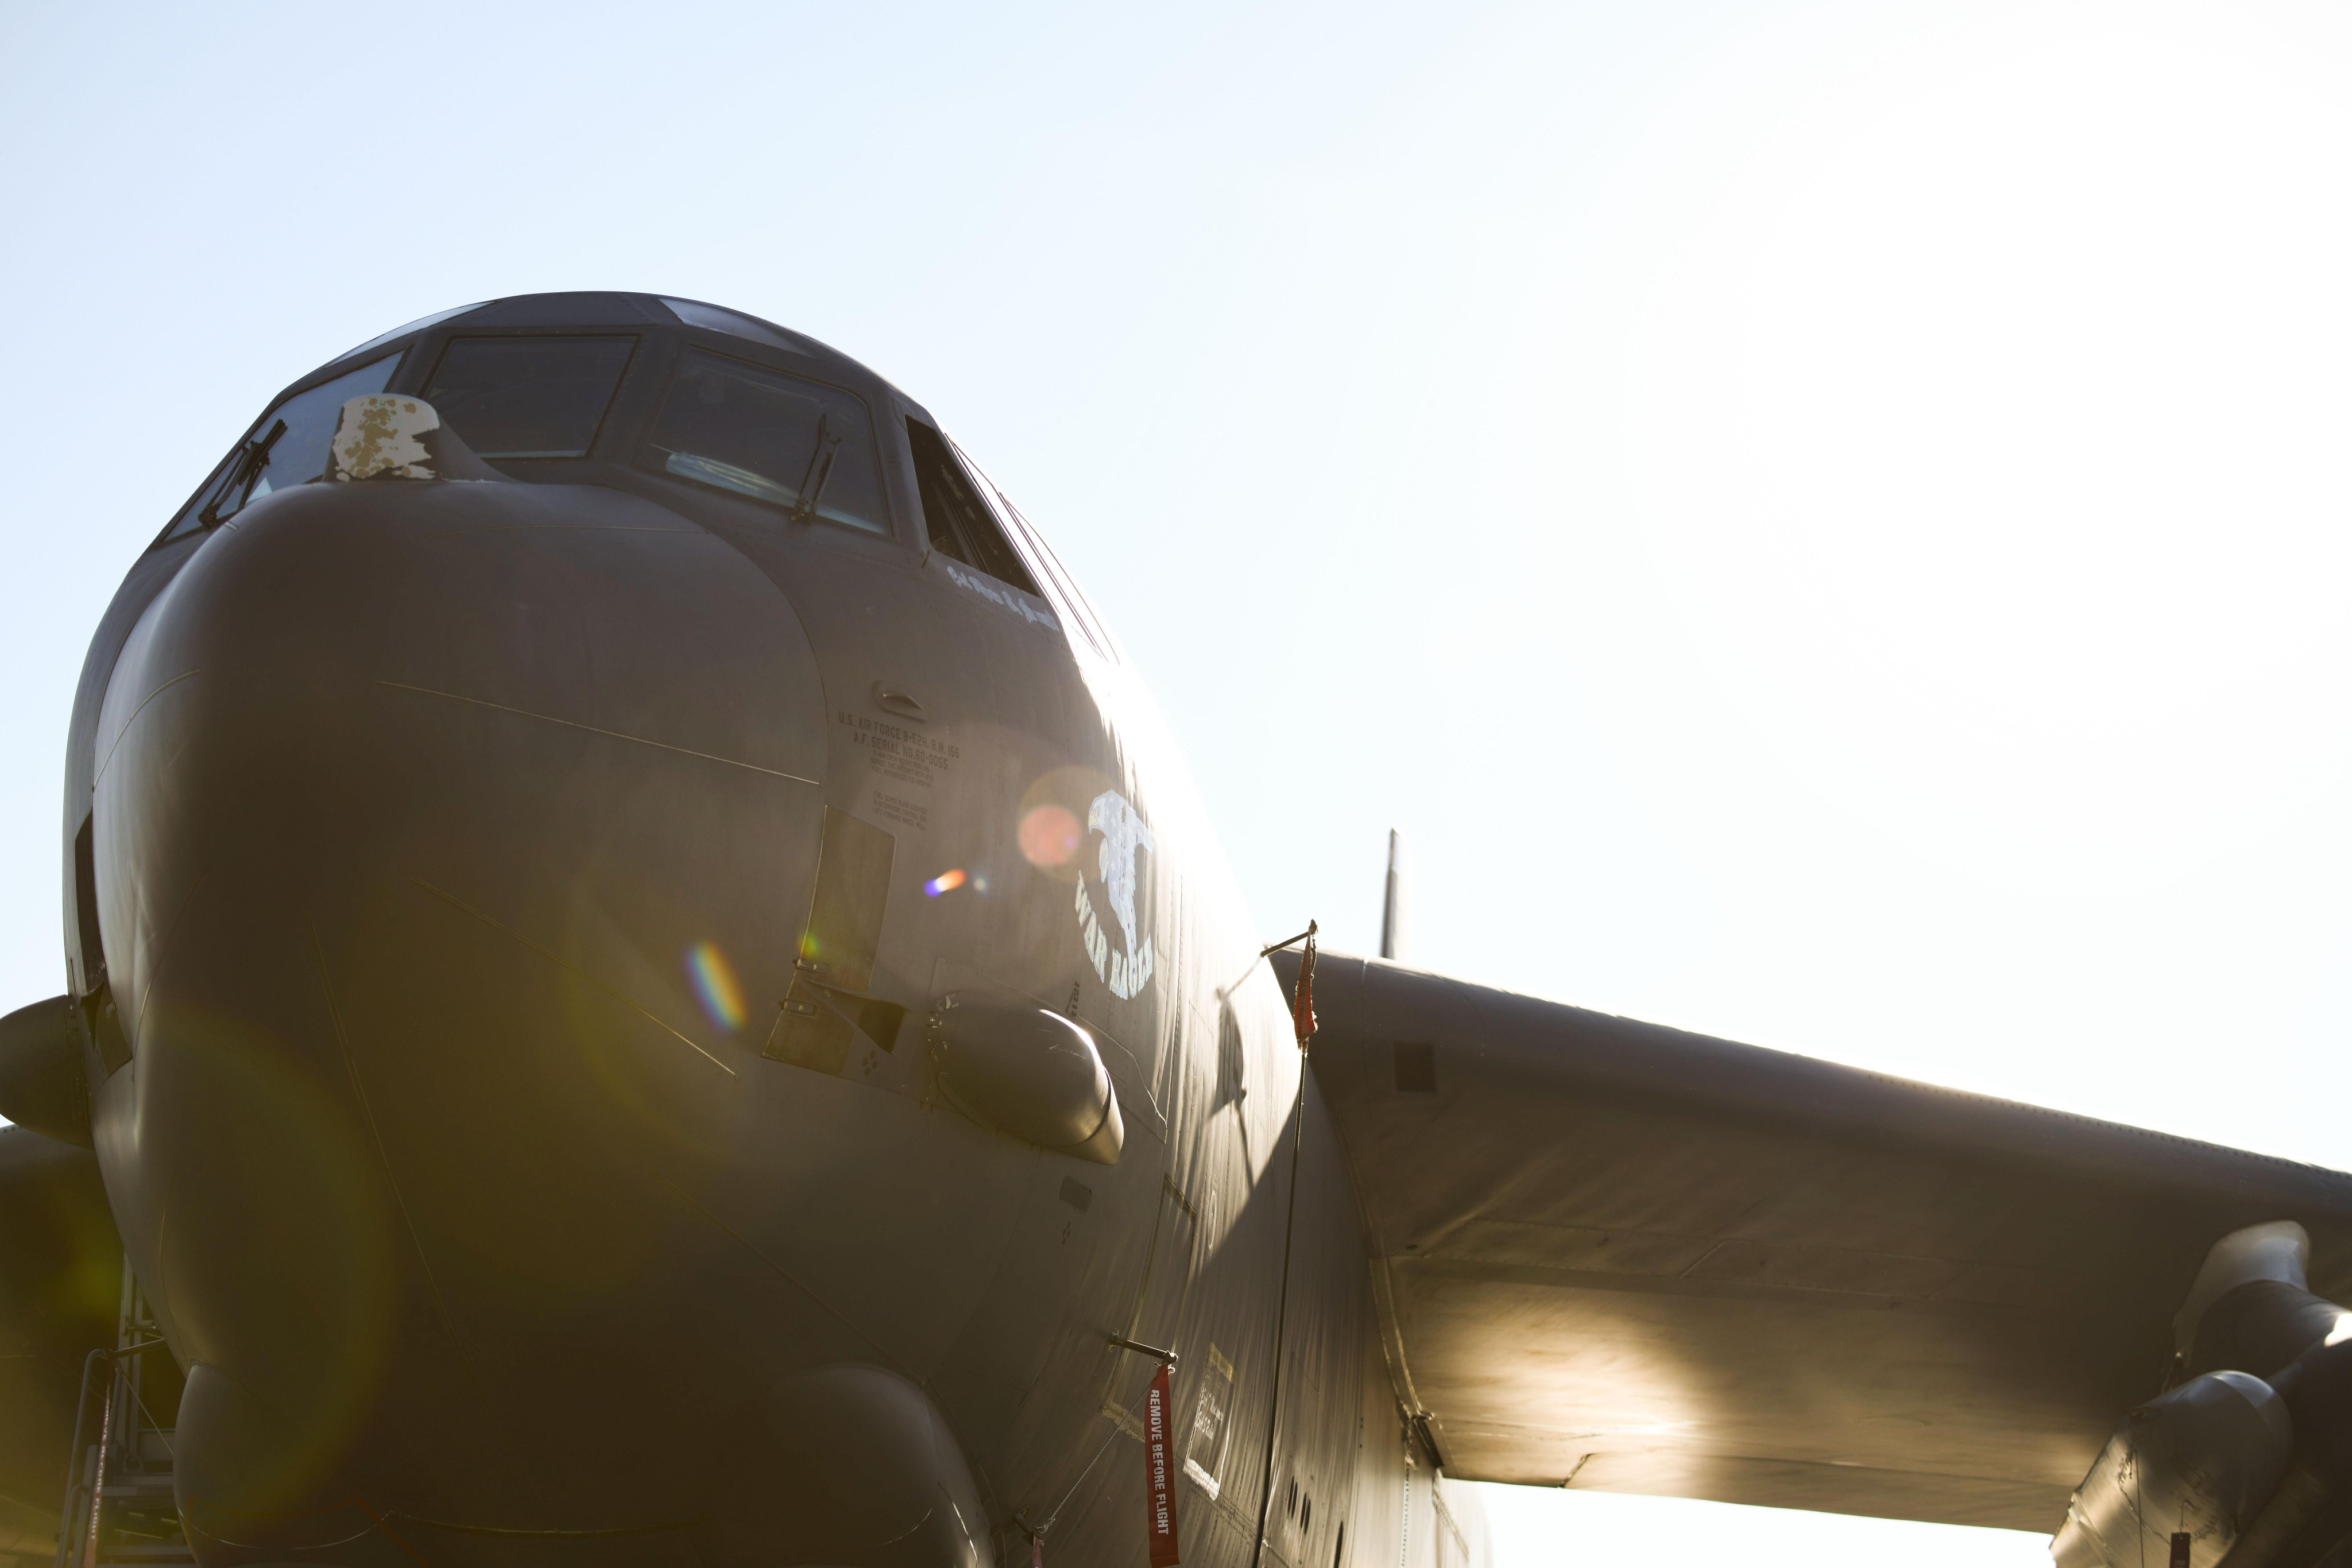B52: (0, 290, 2352, 1568)
